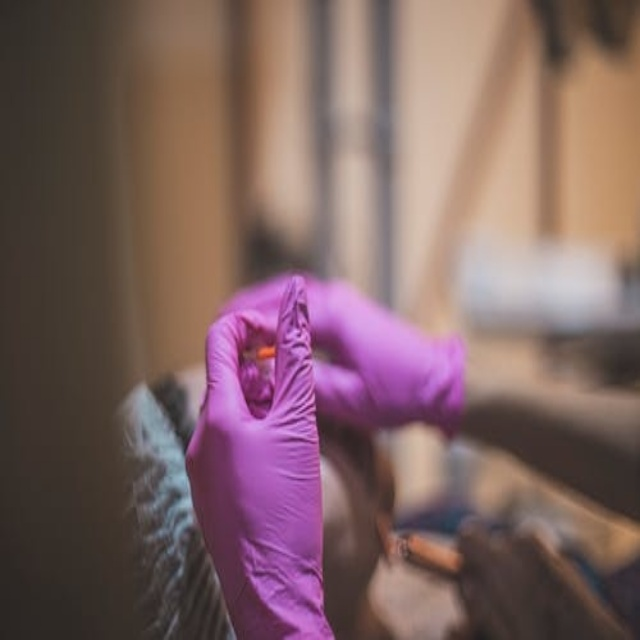Guantes: (174, 269, 338, 636), (212, 270, 468, 443)
